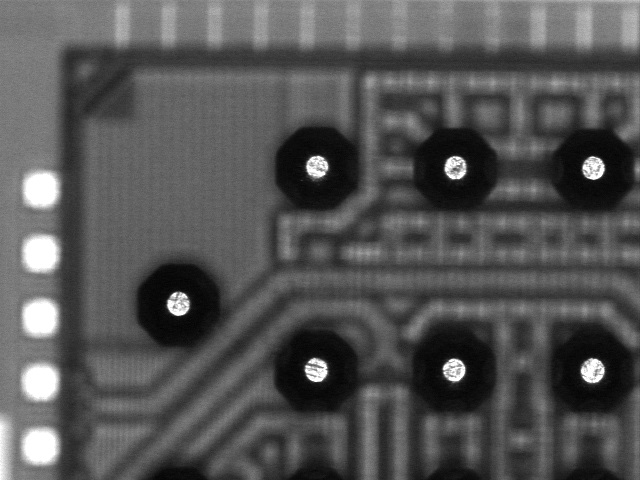normal: (127, 255, 229, 353), (265, 121, 367, 219), (403, 121, 505, 219), (262, 319, 364, 417), (400, 320, 502, 418), (543, 122, 640, 218), (543, 319, 640, 415)
